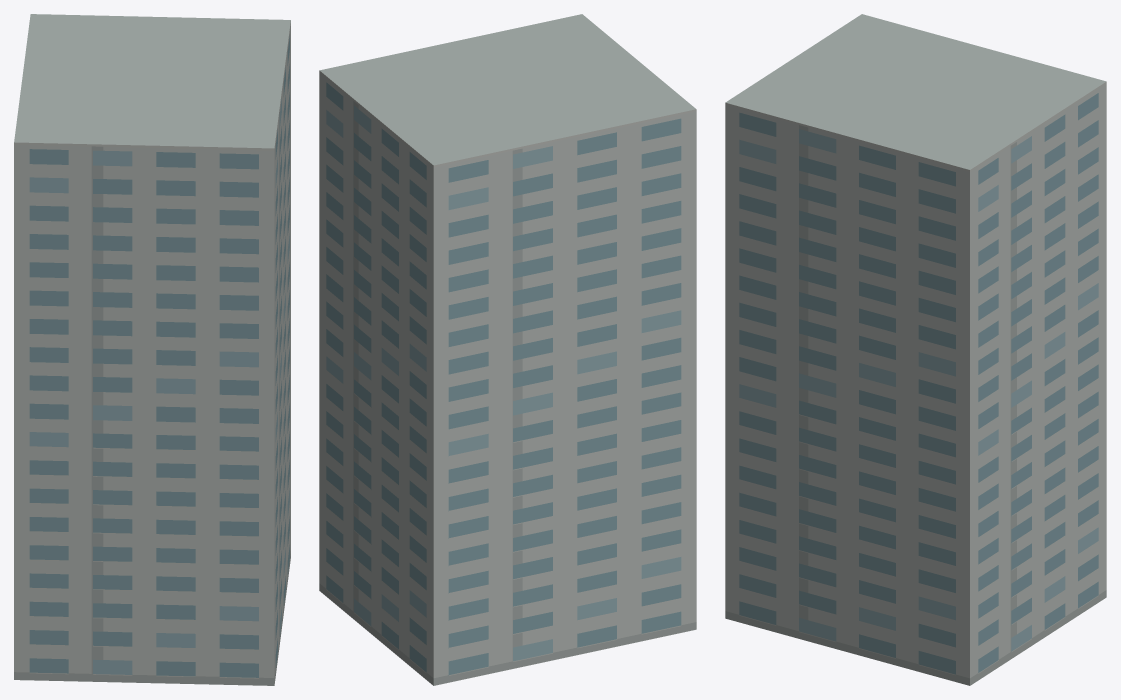
File: residential-233f1161-6e96-4faa-ac7b-18833705533a.glb
3 views of the same model, side by side, from view 1: azimuth 30°, elevation 25°; view 2: azimuth 150°, elevation 25°; view 3: azimuth 270°, elevation 25° (orthographic). The views are drawn at different scales.
Visible parts, largest first — view 1: residential-233f1161-6e96-4faa-ac7b-18833705533a.tmp; view 2: residential-233f1161-6e96-4faa-ac7b-18833705533a.tmp; view 3: residential-233f1161-6e96-4faa-ac7b-18833705533a.tmp.
Part boxes in pixels (bbox=[...]): residential-233f1161-6e96-4faa-ac7b-18833705533a.tmp: bbox=[14, 14, 290, 685]; residential-233f1161-6e96-4faa-ac7b-18833705533a.tmp: bbox=[319, 14, 696, 685]; residential-233f1161-6e96-4faa-ac7b-18833705533a.tmp: bbox=[725, 14, 1106, 685].
Bounding box in the file's own units: 39.57 × 61 × 40.89.
